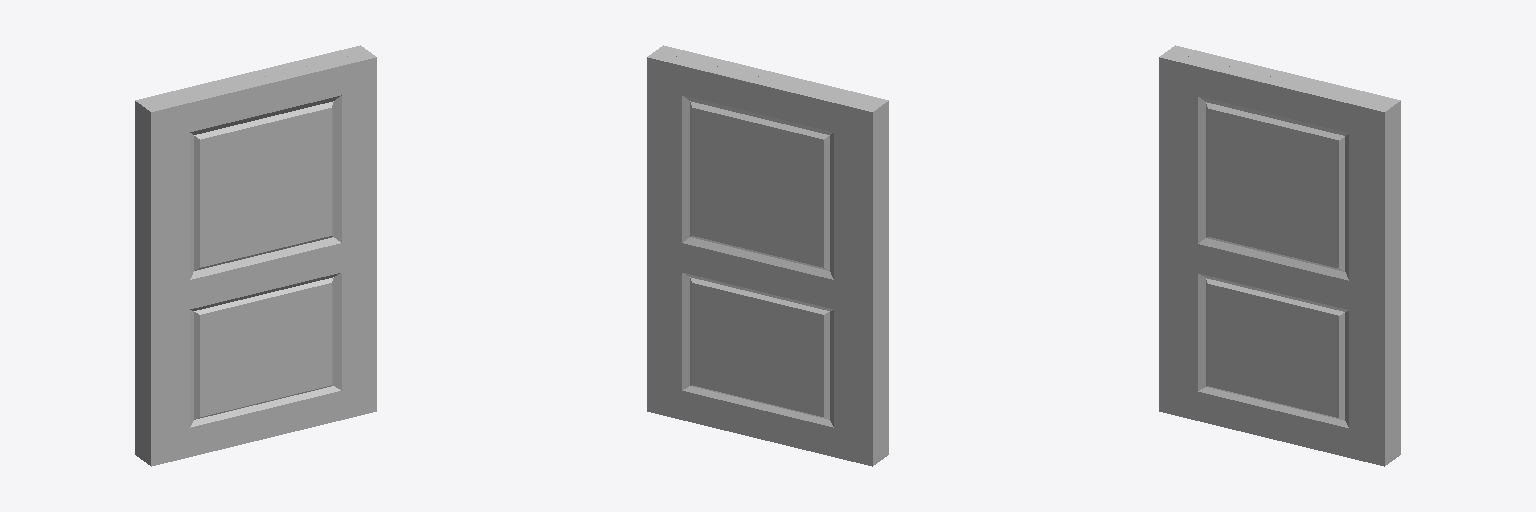
Rendered from Door 1.obj.
3 renders of one model, left to right at view 1: azimuth 30°, elevation 25°; view 2: azimuth 150°, elevation 25°; view 3: azimuth 330°, elevation 25°, orthographic.
Visible parts, largest first — view 1: Door 1; view 2: Door 1; view 3: Door 1.
Part boxes in pixels (x1,y1,x2,y2): Door 1: (135,45,376,466); Door 1: (647,45,888,466); Door 1: (1159,45,1400,466).
Size of the model in its own units: 2 by 3 by 0.25.